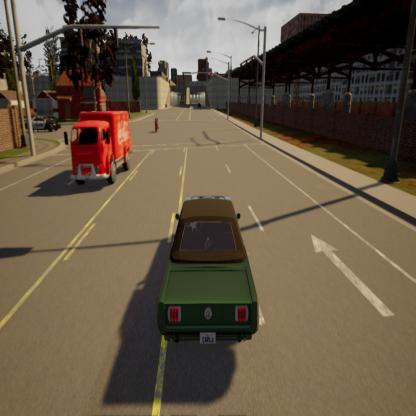Cars: (149, 160, 277, 384), (57, 89, 140, 203), (23, 105, 65, 144), (152, 114, 160, 141)
